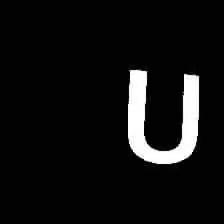LTR_U: (119, 62, 206, 171)
